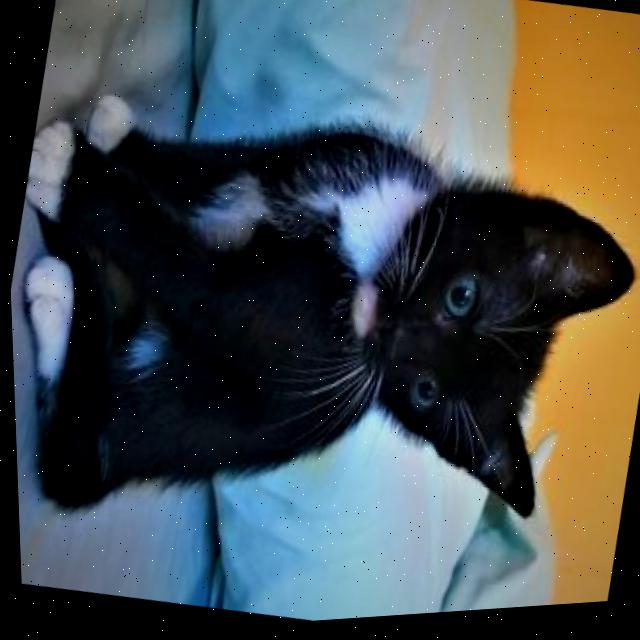Tuxedo: (2, 48, 640, 621)
